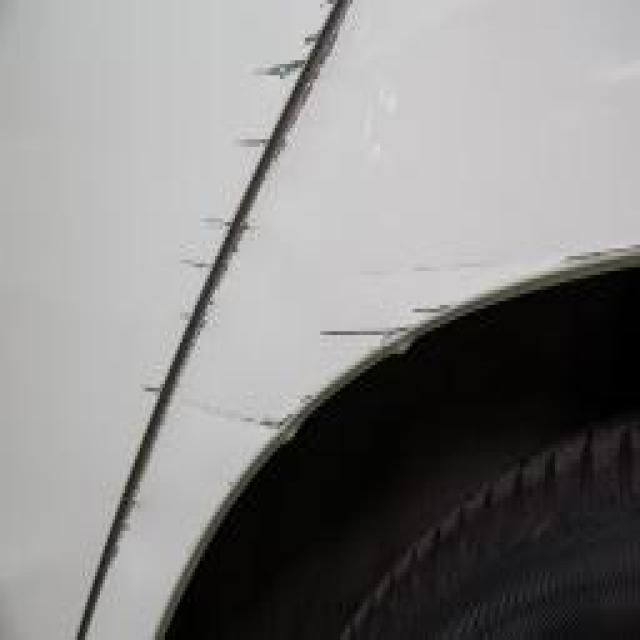Door: (132, 0, 308, 407)
Fender: (190, 241, 640, 437)
